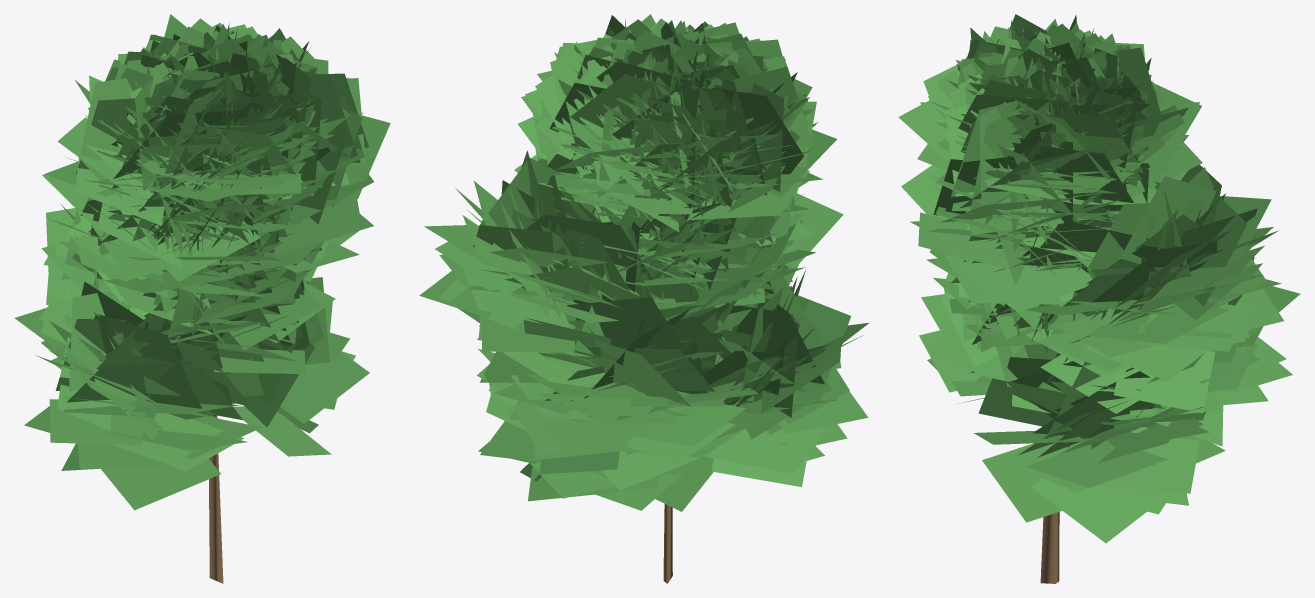
Rendered from tree_pine.glb.
The picture shows the model from 3 angles, left to right: view 1: azimuth 30°, elevation 25°; view 2: azimuth 150°, elevation 25°; view 3: azimuth 270°, elevation 25°; orthographic projection.
Visible parts, largest first — view 1: leaves, tree; view 2: leaves, tree; view 3: leaves, tree.
Boxes of the visible parts, left/top/right/bottom form: leaves: left=14, top=14, right=390, bottom=510; tree: left=209, top=403, right=234, bottom=583; leaves: left=419, top=14, right=869, bottom=511; tree: left=663, top=504, right=672, bottom=583; leaves: left=898, top=14, right=1300, bottom=543; tree: left=1040, top=512, right=1059, bottom=583.
Size of the model in its own units: 8.17 by 12.11 by 8.07.
